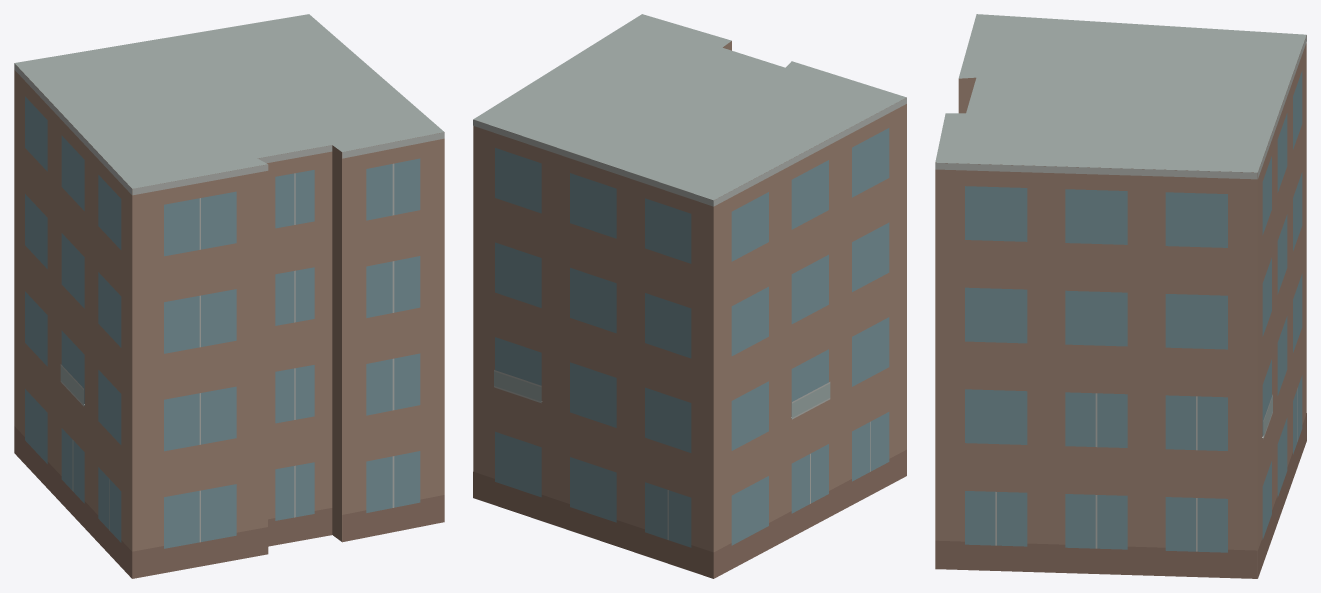
File: survey-upis-32564937.glb
The picture shows the model from 3 angles, left to right: view 1: azimuth 30°, elevation 25°; view 2: azimuth 150°, elevation 25°; view 3: azimuth 270°, elevation 25°; orthographic projection. The views are drawn at different scales.
Parts seen in each view (by area): view 1: survey-upis-32564937.tmp; view 2: survey-upis-32564937.tmp; view 3: survey-upis-32564937.tmp.
Part boxes in pixels (box(x1,y1,x2,y2)): survey-upis-32564937.tmp: box(14, 14, 444, 578); survey-upis-32564937.tmp: box(473, 14, 906, 578); survey-upis-32564937.tmp: box(935, 14, 1306, 578).
Bounding box in the file's own units: 12.23 × 14.6 × 12.11.
